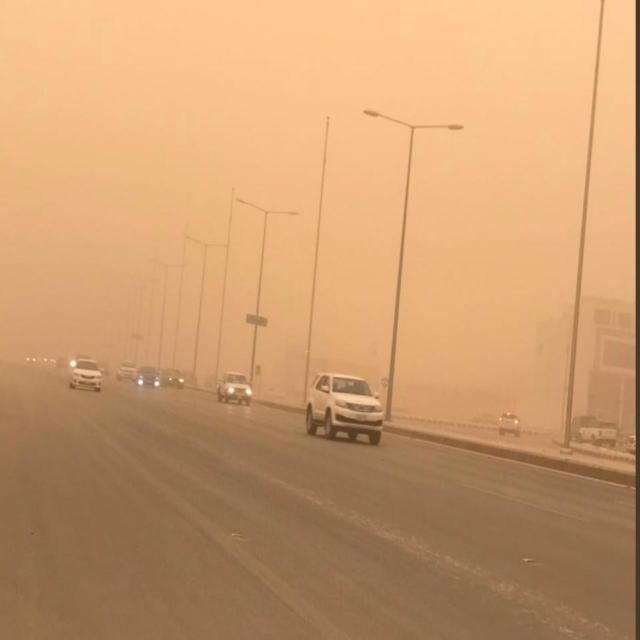Car: (304, 372, 384, 445), (216, 373, 253, 405), (70, 359, 103, 393), (496, 411, 522, 438), (136, 366, 160, 388), (162, 368, 185, 389), (116, 360, 137, 381)
